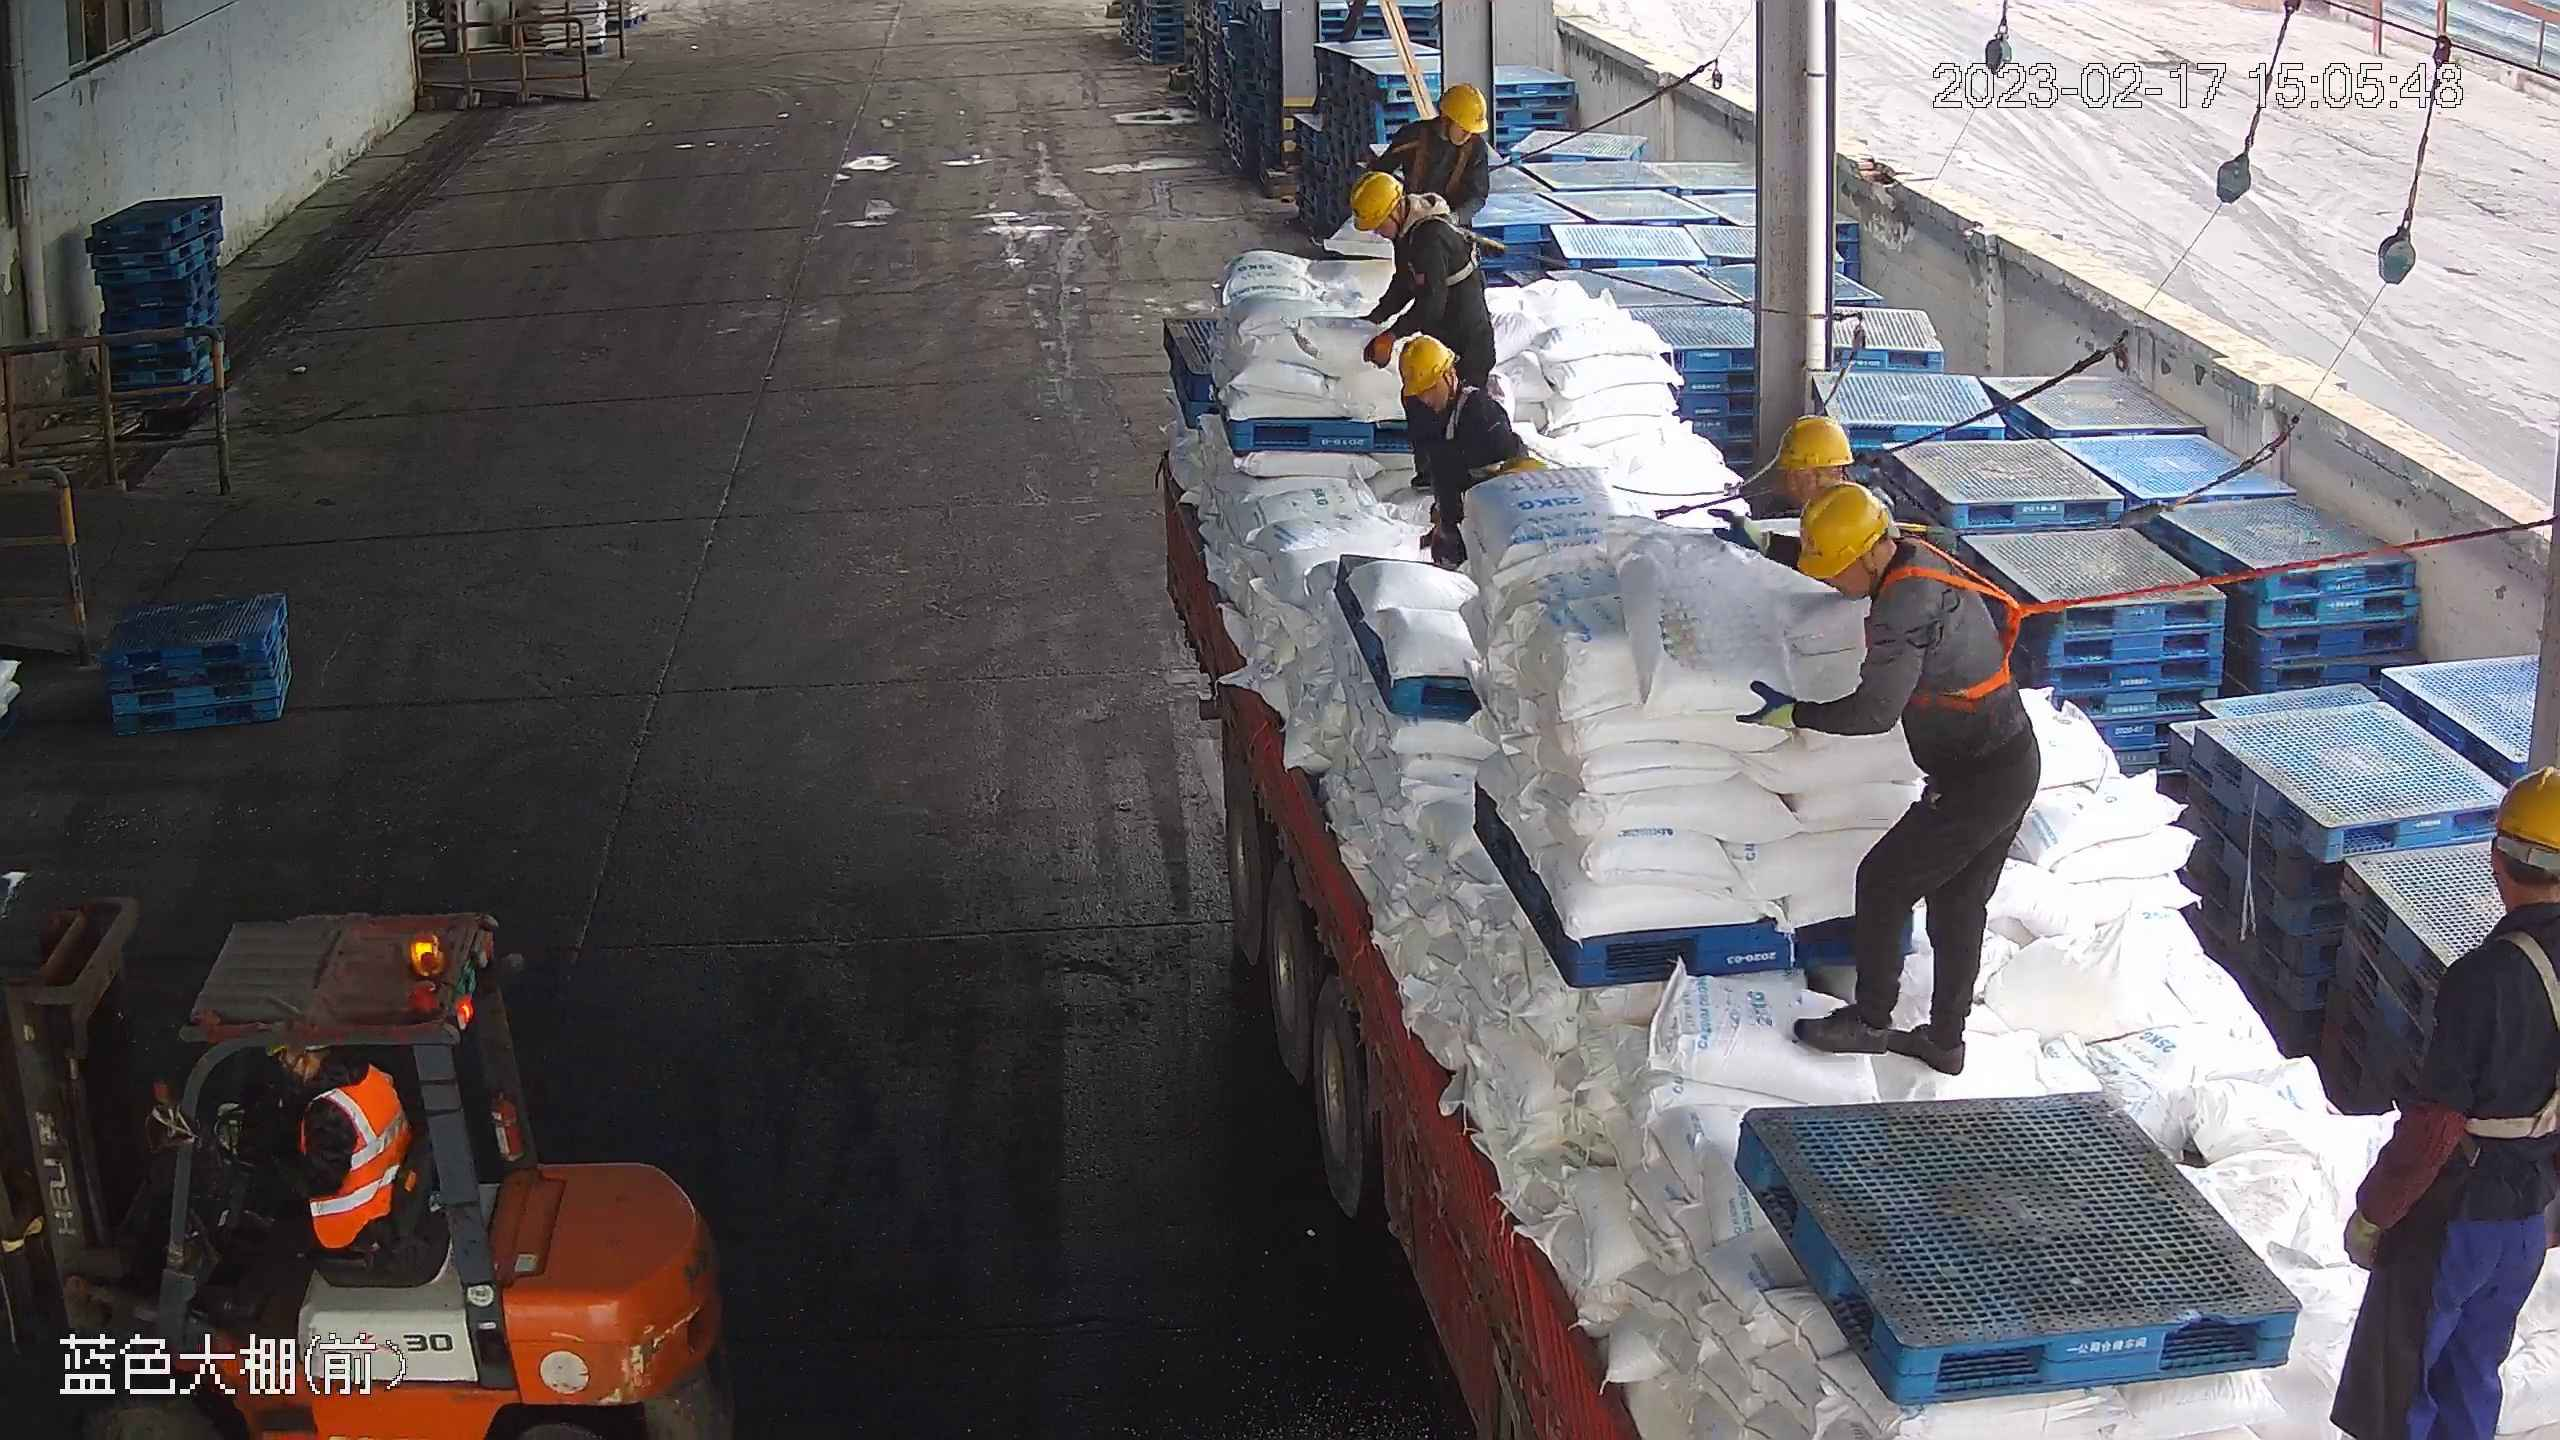belt: (1863, 533, 2050, 712), (2445, 914, 2560, 1146), (1393, 198, 1486, 288), (1410, 376, 1488, 440)
head: (1793, 473, 2001, 636), (2439, 765, 2560, 1030), (1385, 334, 1509, 433), (1350, 170, 1468, 269), (1392, 78, 1493, 166)
helmet: (1794, 478, 1894, 579), (2482, 765, 2558, 864), (1770, 410, 1854, 470), (1392, 332, 1456, 395), (1350, 169, 1404, 231), (1437, 79, 1489, 132)
people: (1742, 470, 2042, 1072), (2339, 765, 2560, 1433), (205, 1046, 416, 1328), (1389, 332, 1545, 575), (1347, 171, 1508, 401), (1373, 81, 1497, 249)
truck: (1138, 204, 2549, 1440)
